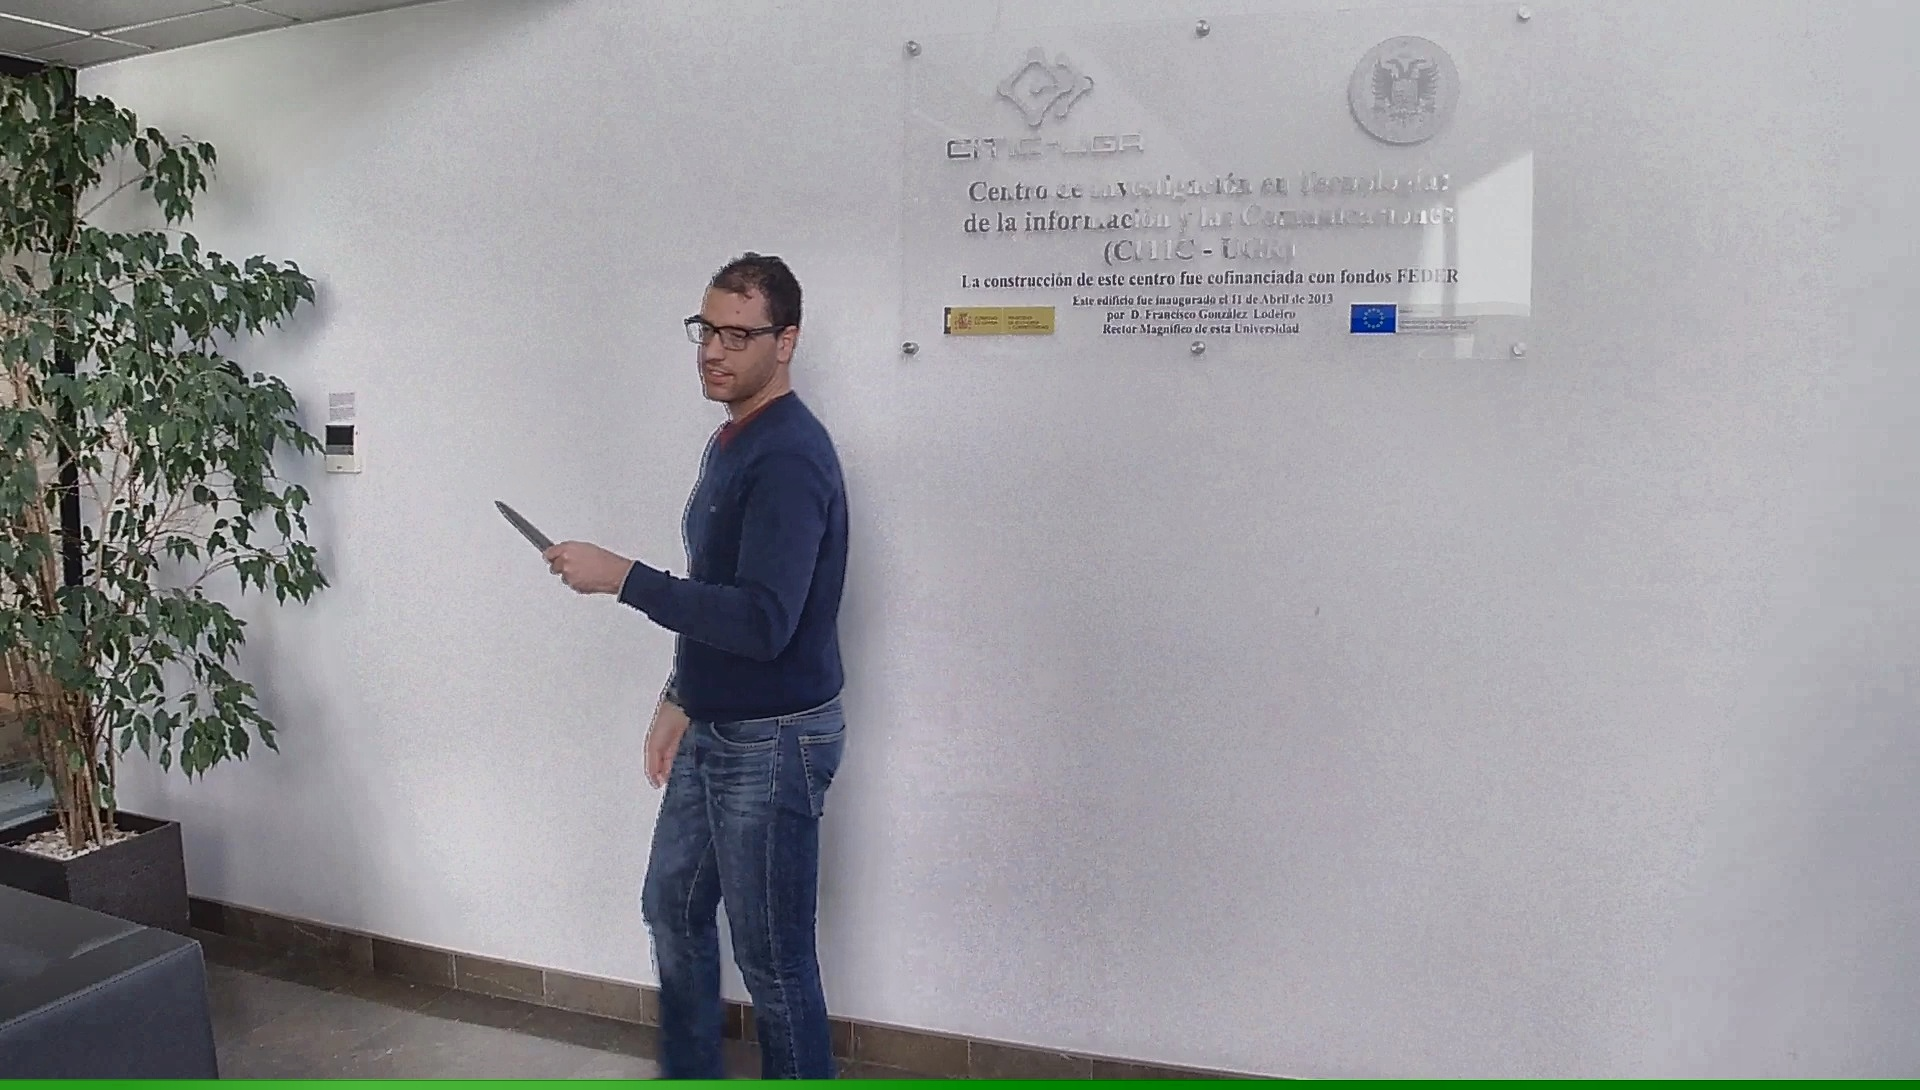knife: (487, 493, 582, 581)
